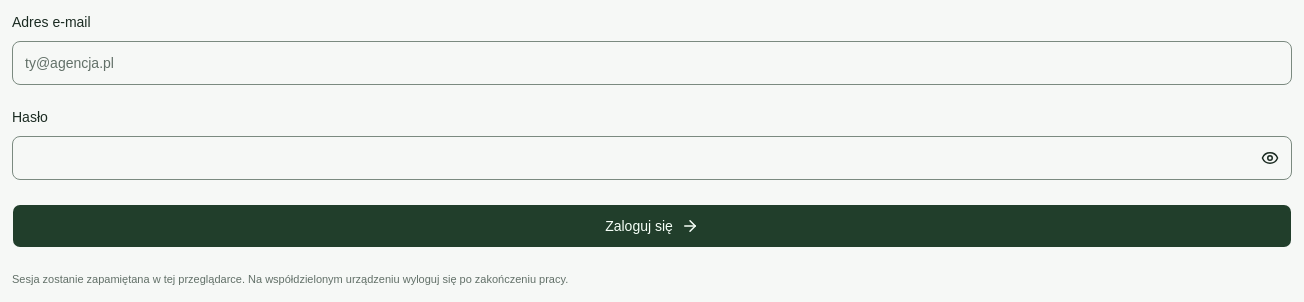
Test: email login form › toggles password visibility without changing its value
Type "test-only-password" into the password field labelled "Hasło" at {"x": 652, "y": 158}, box [12, 136, 1292, 180]
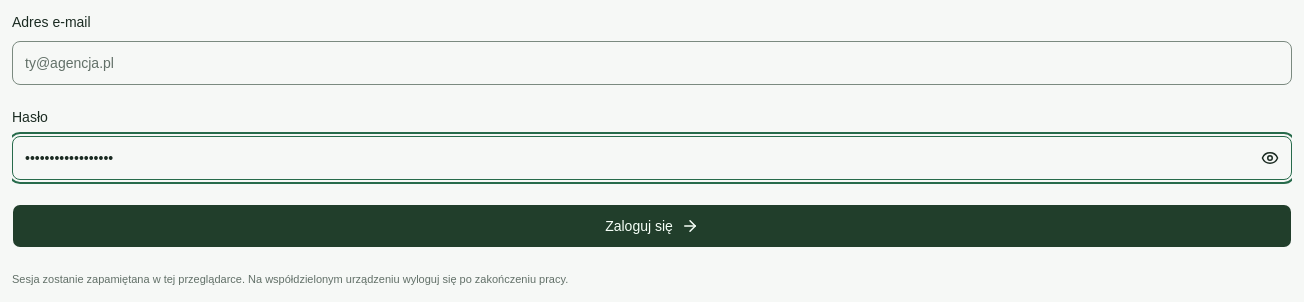
Click the button named "Pokaż hasło" at {"x": 1270, "y": 158}, box [1248, 136, 1292, 180]
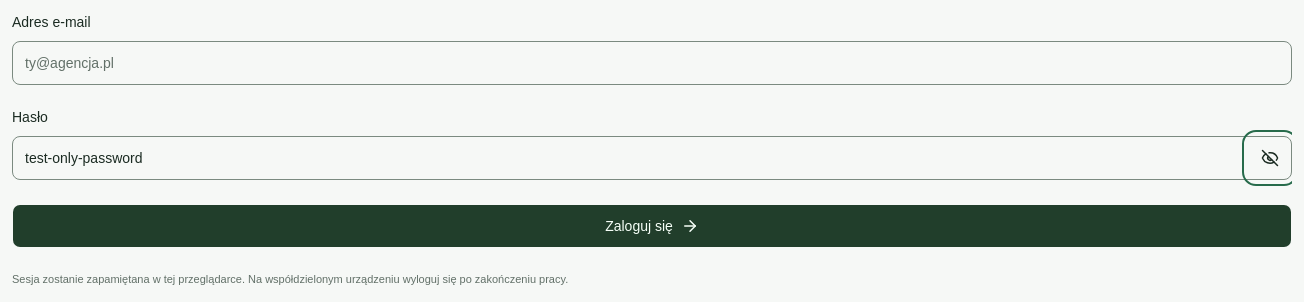
Result: the field labelled "Hasło" shows its text at [12, 136, 1292, 180]
Click the button named "Ukryj hasło" at {"x": 1270, "y": 158}, box [1248, 136, 1292, 180]
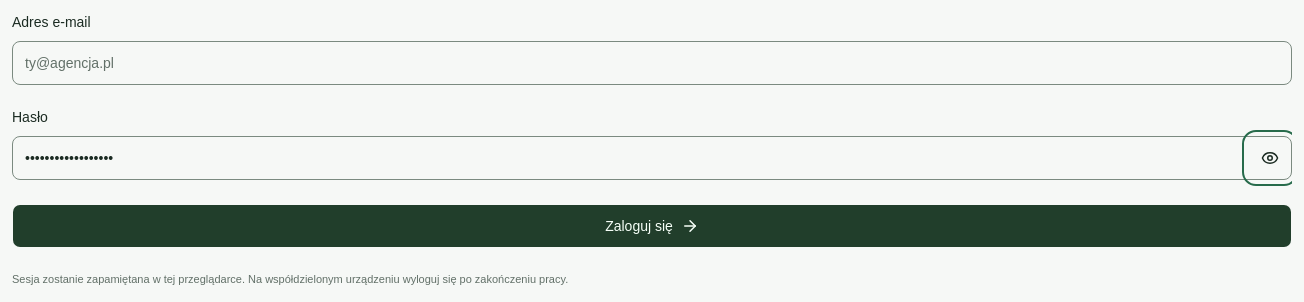
Result: the password field labelled "Hasło" hides its text at [12, 136, 1292, 180]
